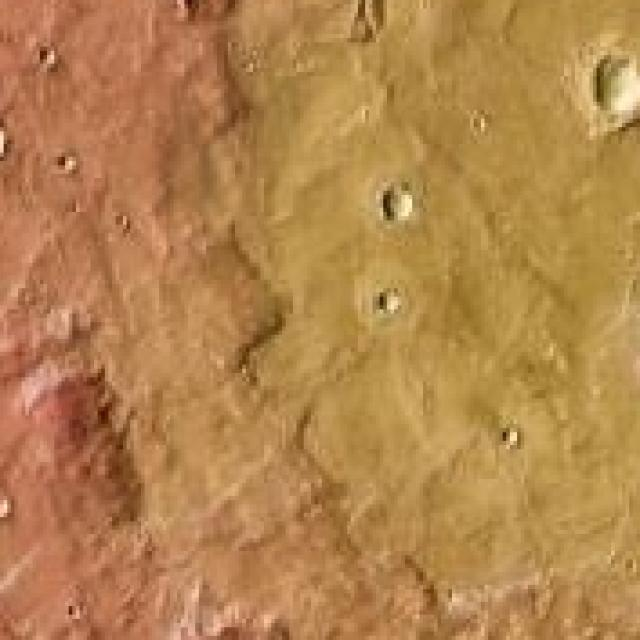Crater: (0, 0, 640, 640), (582, 34, 640, 127), (614, 271, 640, 423)
